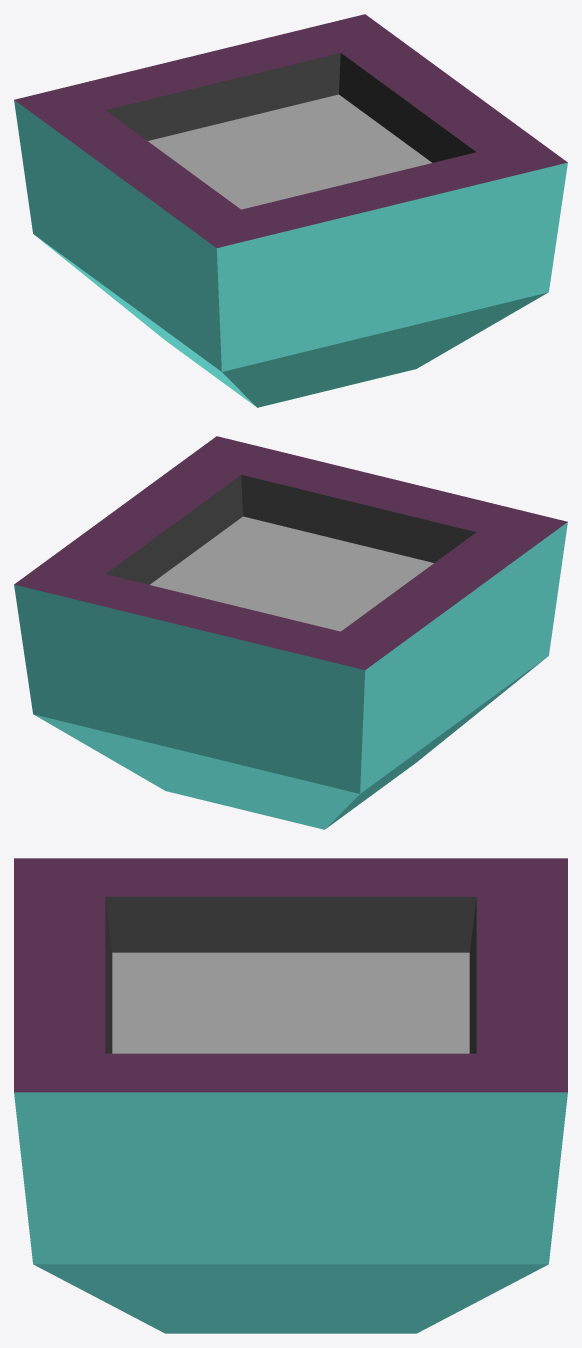
Rendered from Foco.FBX.
3 views of the same model, one above another, from view 1: azimuth 30°, elevation 25°; view 2: azimuth 150°, elevation 25°; view 3: azimuth 270°, elevation 25° (orthographic). The views are drawn at different scales.
Visible parts, largest first — view 1: Box008; view 2: Box008; view 3: Box008.
Boxes of the visible parts, <box> form: Box008: <box>14,14,567,407</box>; Box008: <box>14,436,567,829</box>; Box008: <box>14,858,567,1333</box>.
Size of the model in its own units: 8.36 by 5.09 by 8.36.
